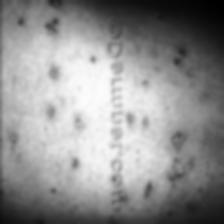Non-Cancerous Skin Condition: (124, 15, 210, 224), (0, 0, 85, 201)
